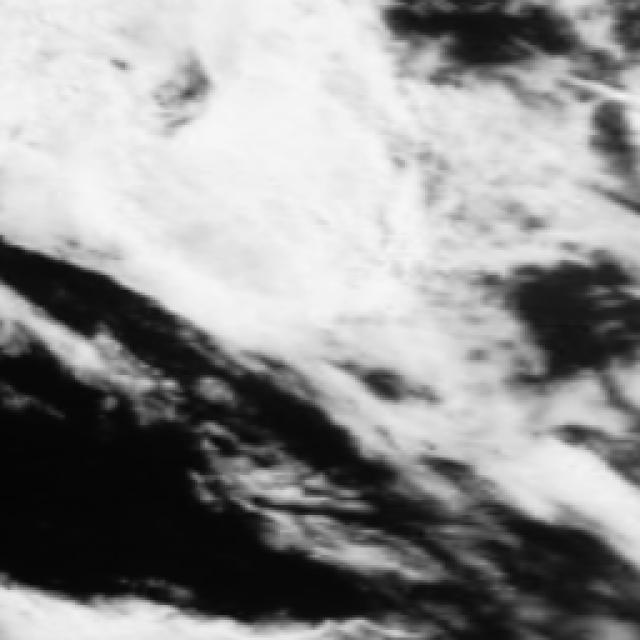CB: (182, 143, 356, 303)
